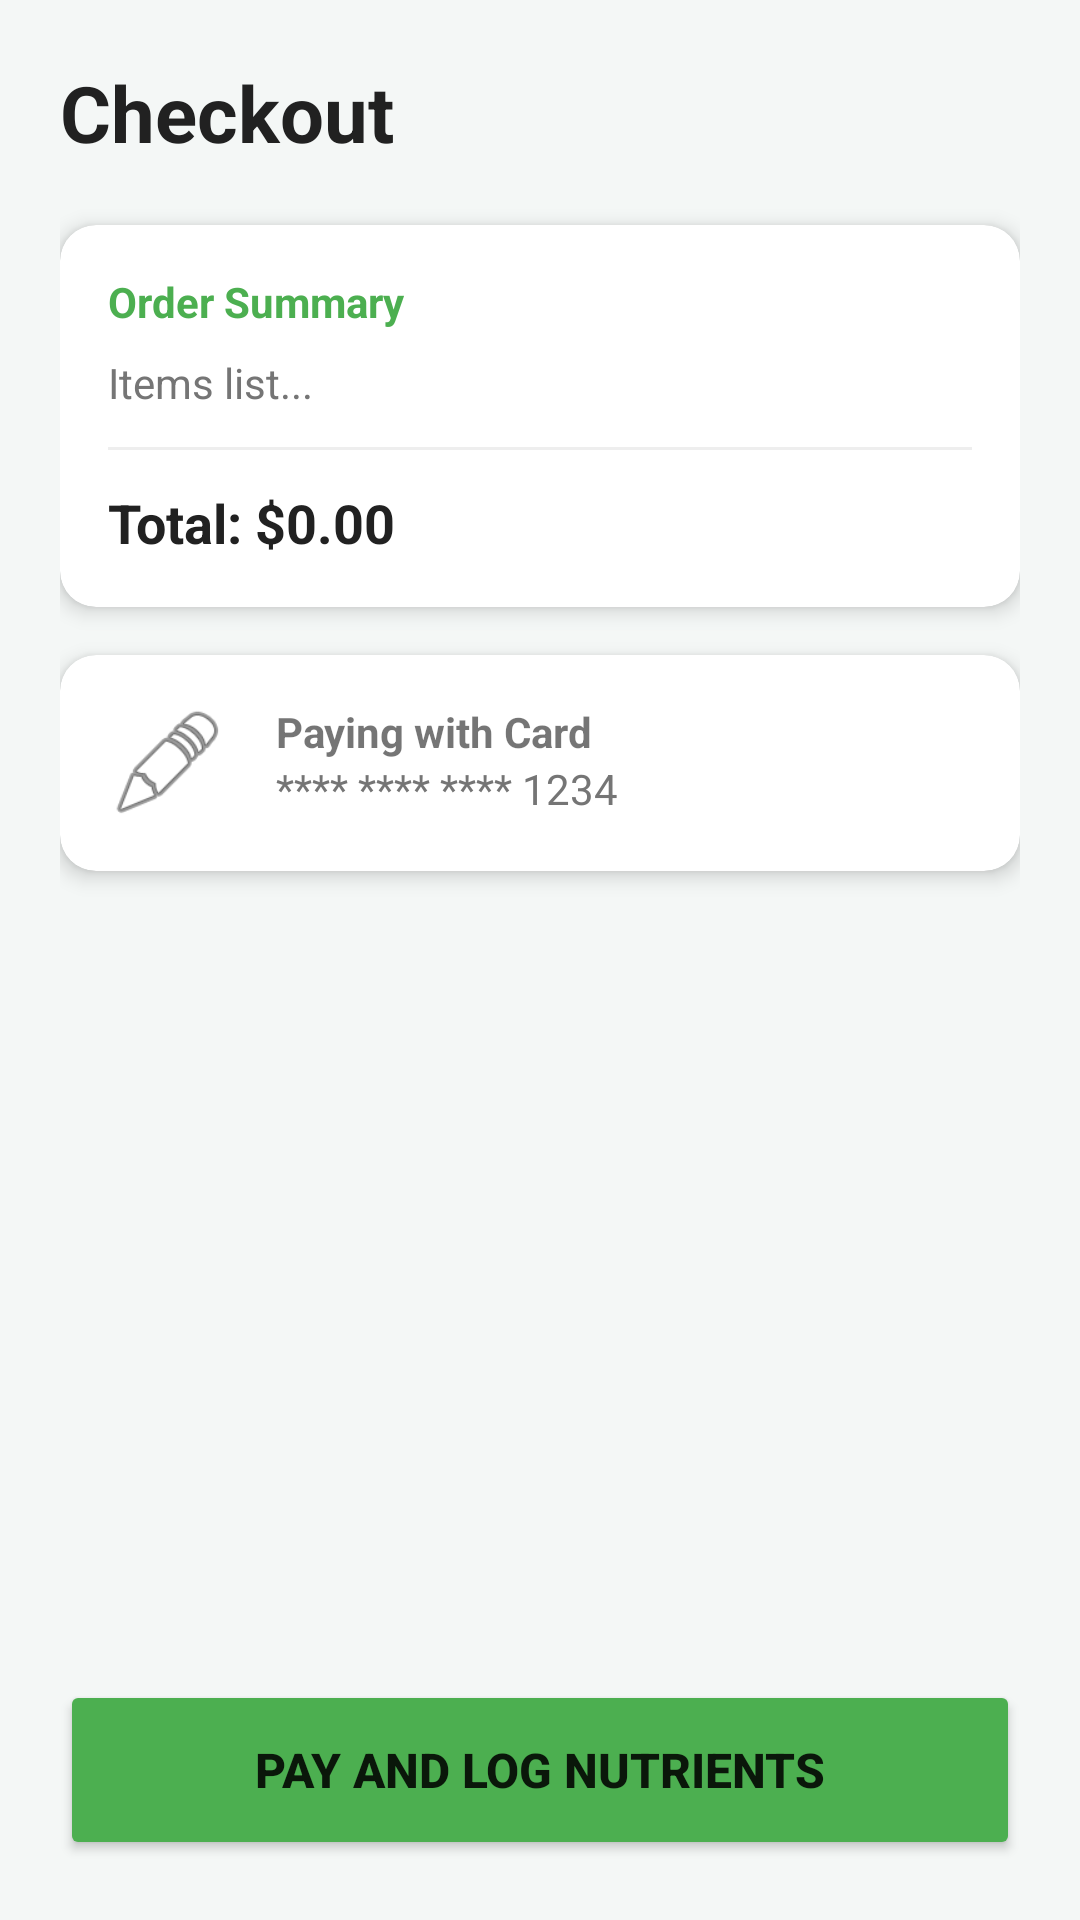

Screen size 1080×1920. Icon name, then its box in pixels as (x1, y1, x2, y2):
edit: (117, 711, 218, 813)
